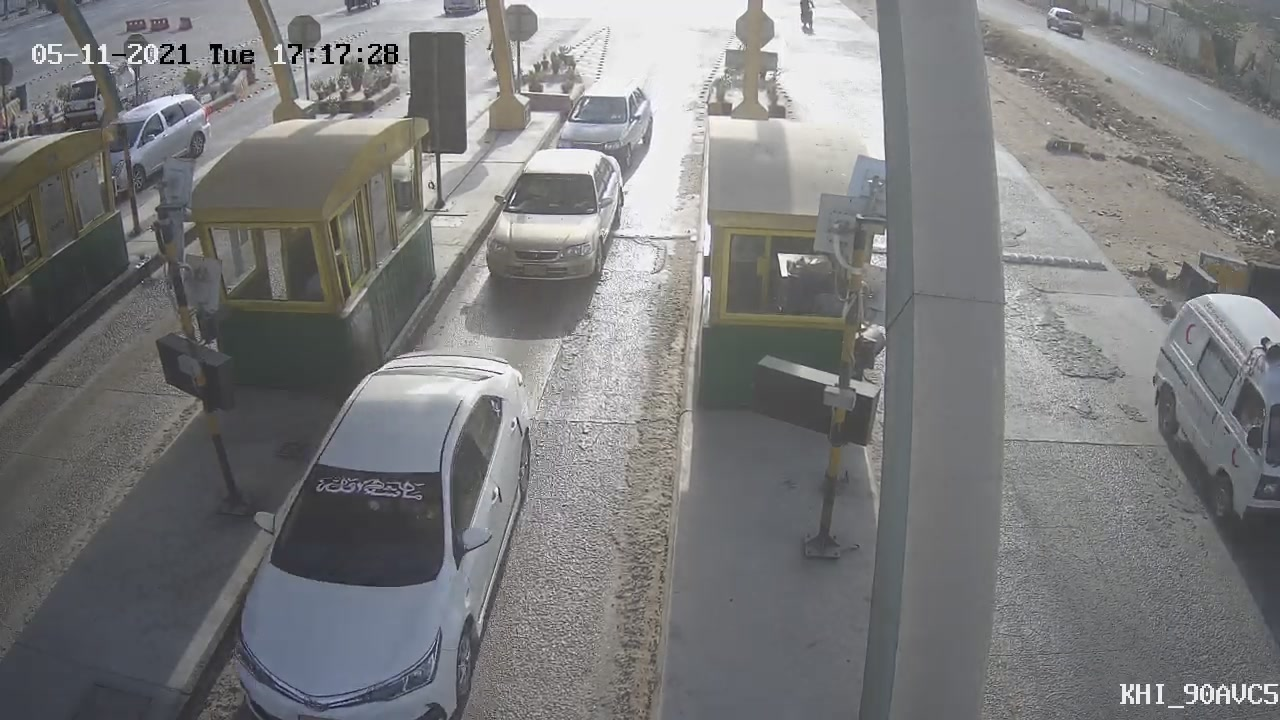F1: (473, 139, 638, 301), (542, 68, 665, 188)
